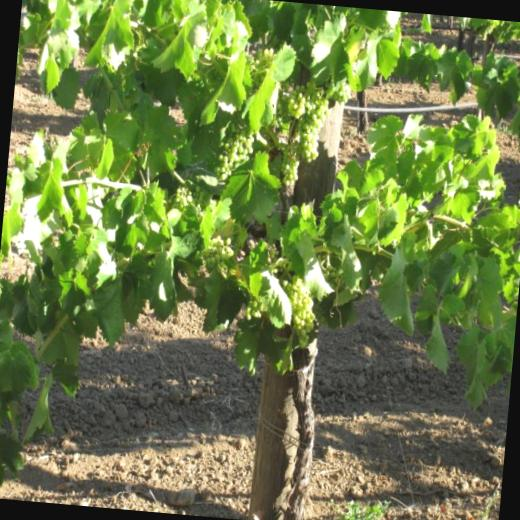Orange: (269, 75, 353, 191), (213, 108, 256, 184), (276, 274, 319, 348), (311, 255, 345, 324), (164, 171, 212, 218), (200, 234, 234, 272), (250, 46, 278, 90), (267, 246, 289, 274), (242, 295, 264, 322)
